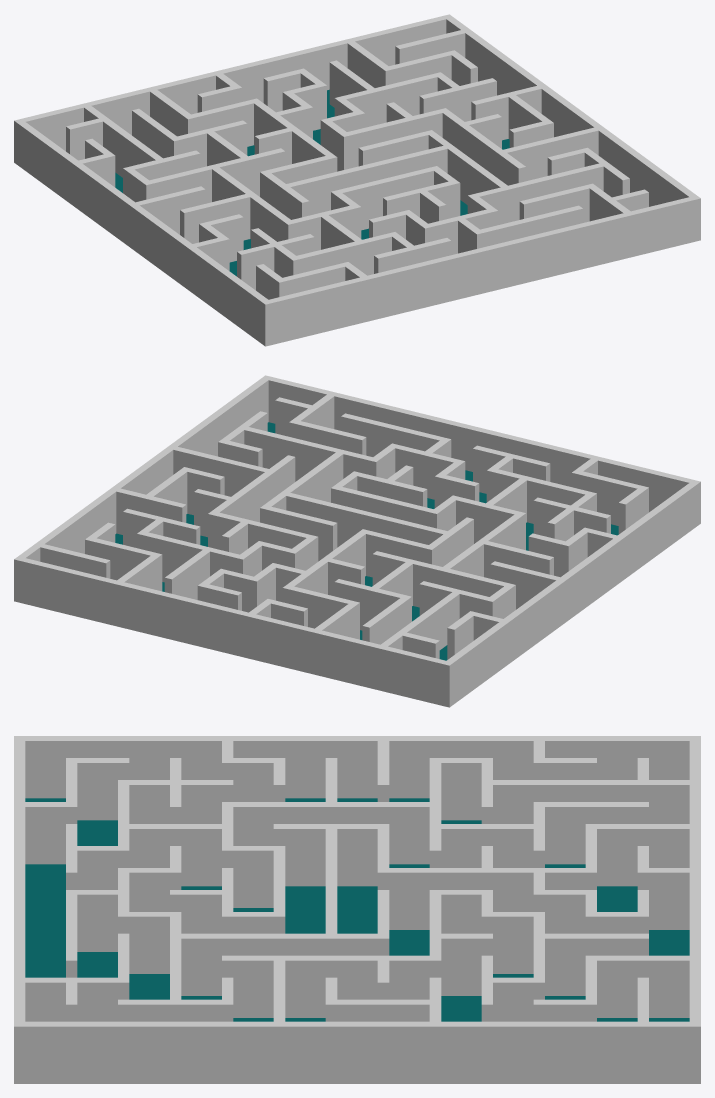
The model's file is Level34Ground.FBX.
3 views of the same model, one above another, from view 1: azimuth 30°, elevation 25°; view 2: azimuth 150°, elevation 25°; view 3: azimuth 270°, elevation 25° (orthographic). The views are drawn at different scales.
Parts seen in each view (by area): view 1: Labyrinth003; view 2: Labyrinth003; view 3: Labyrinth003.
Part boxes in pixels (box(x1,y1,x2,y2)): Labyrinth003: box(14, 14, 700, 346); Labyrinth003: box(14, 375, 700, 707); Labyrinth003: box(14, 736, 700, 1083).
Bounding box in the file's own units: 304 × 28 × 304.
